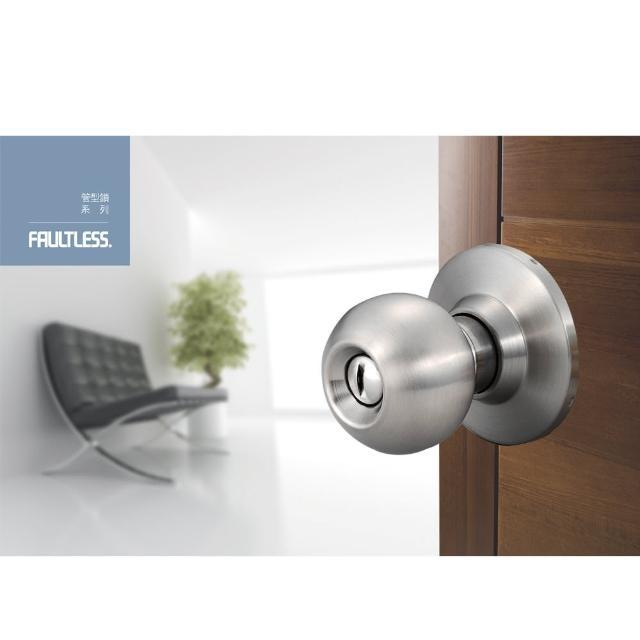doorhandle: (306, 213, 606, 466)
